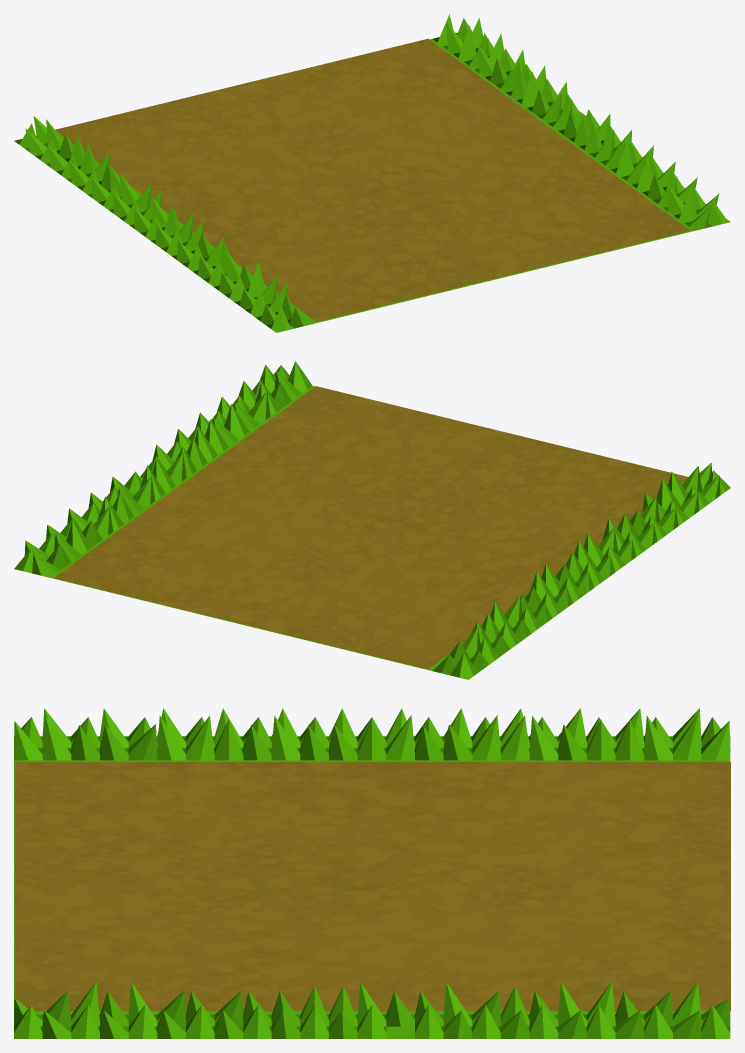
File: дорожка 2.fbx
3 renders of one model, top to bottom at view 1: azimuth 30°, elevation 25°; view 2: azimuth 150°, elevation 25°; view 3: azimuth 270°, elevation 25°, orthographic. The views are drawn at different scales.
Parts seen in each view (by area): view 1: Plane.004, Plane; view 2: Plane.004, Plane; view 3: Plane.004, Plane.
Boxes of the visible parts, x1,y1,x2,y2 form: Plane.004: [55, 38, 690, 321]; Plane: [14, 14, 730, 332]; Plane.004: [54, 386, 688, 669]; Plane: [14, 361, 730, 679]; Plane.004: [14, 762, 730, 1011]; Plane: [14, 708, 730, 1038].
Size of the model in its own units: 100 by 5.4 by 100.
